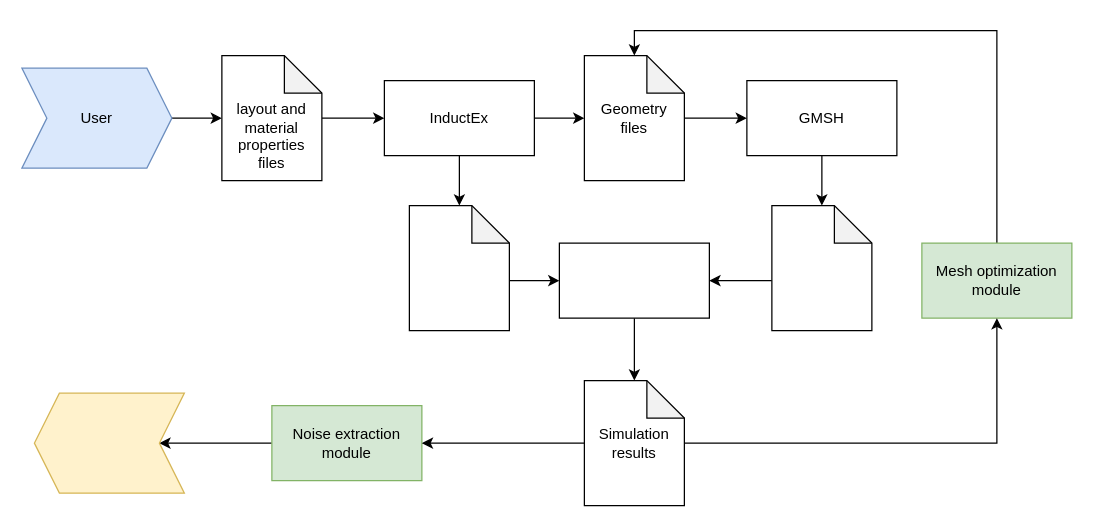
This 1094x528 diagram has some shape labels left out. Each missing label, with the box of its shape:
Flux noise figure: (33, 392, 184, 493)
Mesh files: (771, 204, 872, 331)
settings.json: (408, 204, 509, 331)
tth: (558, 242, 709, 318)
